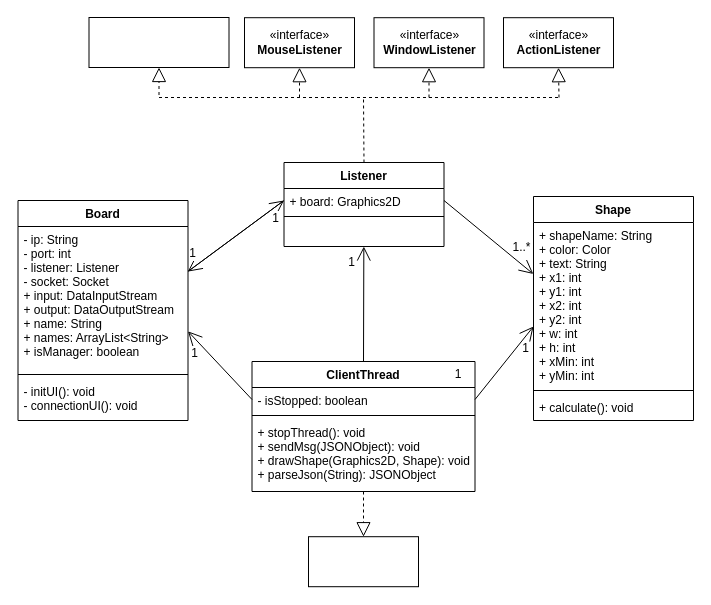
The diagram is 711 pixels wide and 605 high, and some of its shapes have lost their labels. Here are the shapes that lost their labels. From the top down, the centre of each, then its label:
At (x=158, y=42): "«interface» MouseMotionListener".
At (x=363, y=561): "«interface» Runnable".
